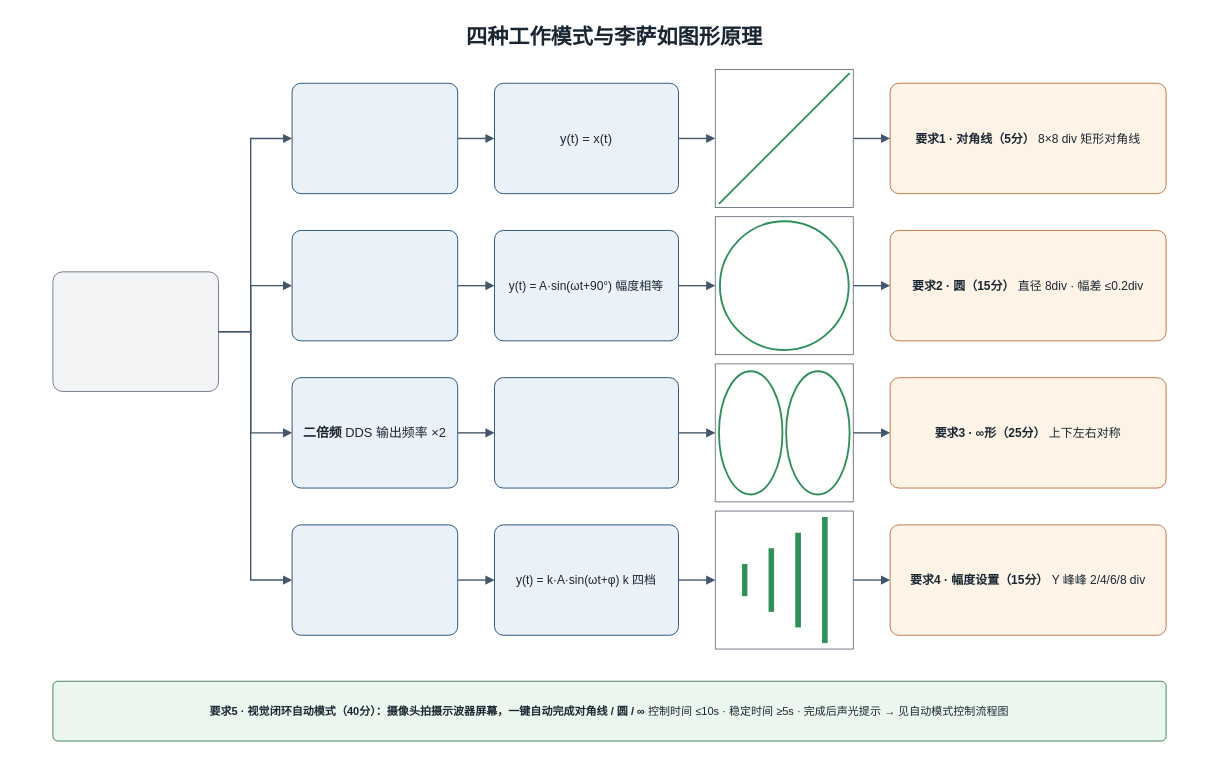
The diagram is 1227 pixels wide and 757 high, and some of its shapes have lost their labels. Each missing label, with the centre of its shape:
"y(t) = A·sin(2ωt) 幅度相等" belongs at point (586, 432).
"正交相移 DDS 数字移相 +90°" belongs at point (374, 285).
"直通模式 x(t) 直接输出" belongs at point (374, 138).
"程控幅度 幅度码 k 四档" belongs at point (374, 579).
"输入 x(t) = A·sin(ωt) 1kHz~100kHz 步进 100Hz" belongs at point (135, 331).
